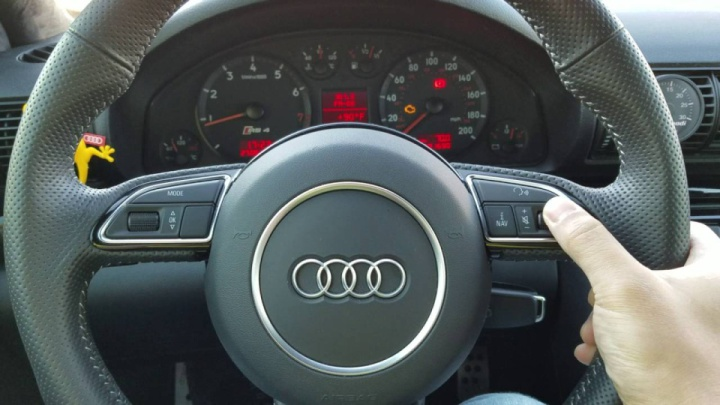audi: (286, 250, 410, 303)
